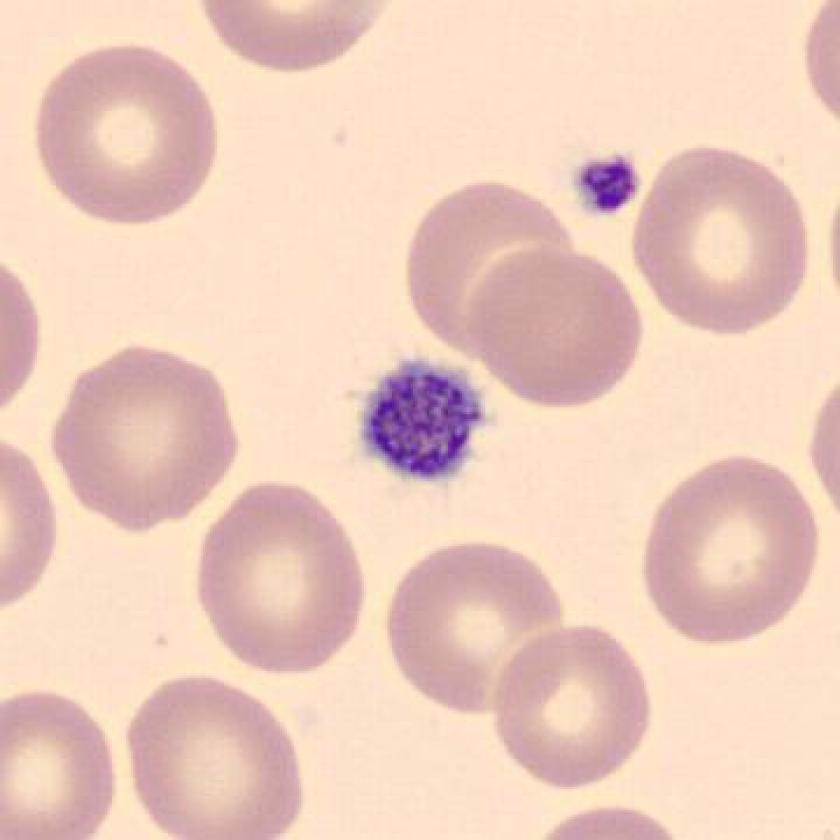platelets: (351, 346, 493, 487), (557, 138, 648, 228)
